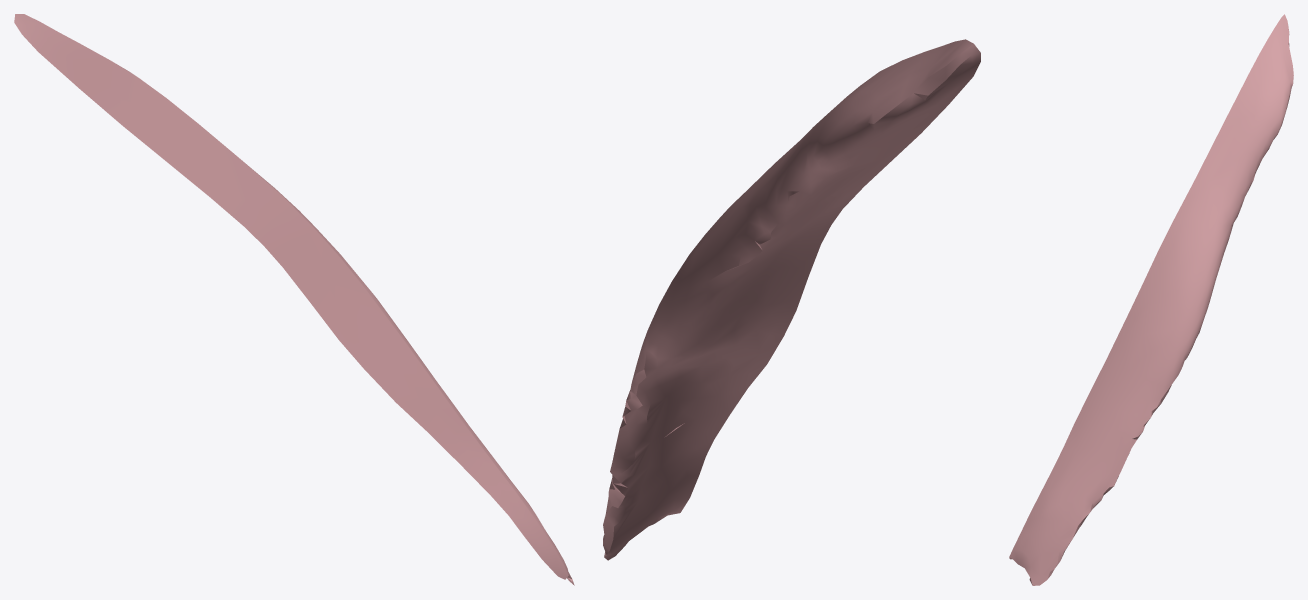
File: fma39298-f_mm1952m.glb
3 views of the same model, side by side, from view 1: azimuth 30°, elevation 25°; view 2: azimuth 150°, elevation 25°; view 3: azimuth 270°, elevation 25° (orthographic). The views are drawn at different scales.
Parts seen in each view (by area): view 1: FMA39298-F_MM1952M; view 2: FMA39298-F_MM1952M; view 3: FMA39298-F_MM1952M.
Part boxes in pixels (bbox=[...]): FMA39298-F_MM1952M: bbox=[14, 14, 574, 585]; FMA39298-F_MM1952M: bbox=[603, 39, 980, 560]; FMA39298-F_MM1952M: bbox=[1009, 14, 1293, 585].
Bounding box in the file's own units: 0.0168 × 0.0221 × 0.0135.
